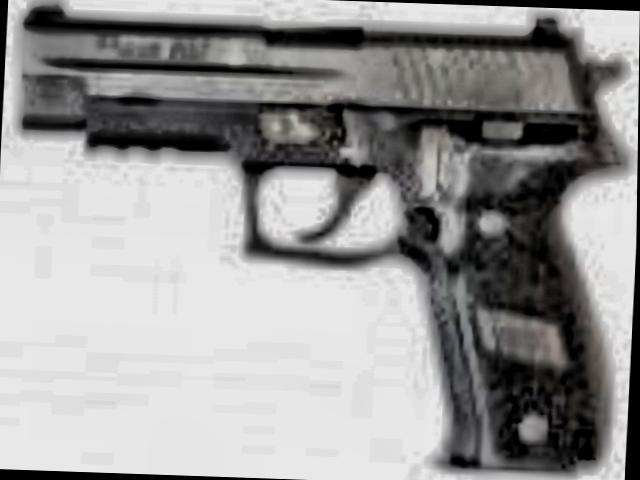pistol: (2, 0, 620, 478)
